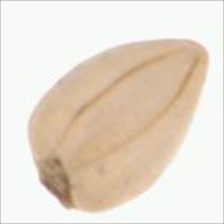L5: (60, 47, 200, 171), (31, 156, 79, 211), (184, 36, 212, 69)
L6: (25, 36, 213, 214)
